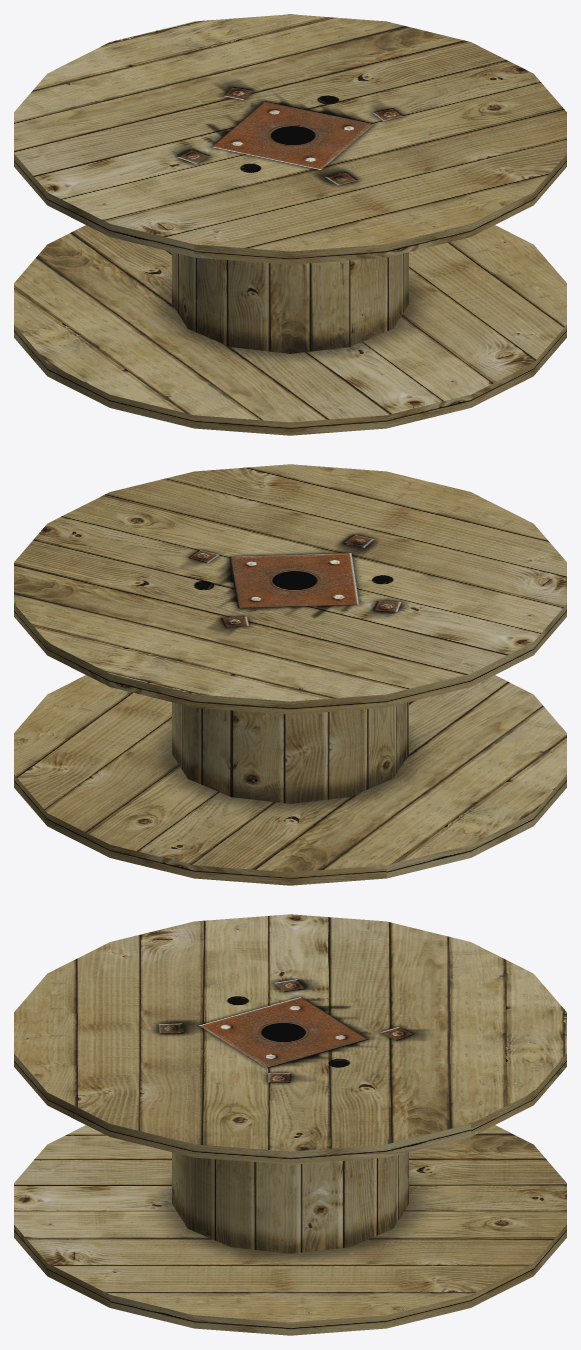
File: cableDrumm.FBX
3 renders of one model, top to bottom at view 1: azimuth 30°, elevation 25°; view 2: azimuth 150°, elevation 25°; view 3: azimuth 270°, elevation 25°, orthographic.
Parts seen in each view (by area): view 1: cableDrumm; view 2: cableDrumm; view 3: cableDrumm.
Boxes of the visible parts, x1=… form: cableDrumm: x1=14, y1=14, x2=566, y2=435; cableDrumm: x1=14, y1=464, x2=566, y2=885; cableDrumm: x1=14, y1=914, x2=566, y2=1335.
Size of what is drawn, in the model's own units: 68.67 by 24.85 by 67.62.
